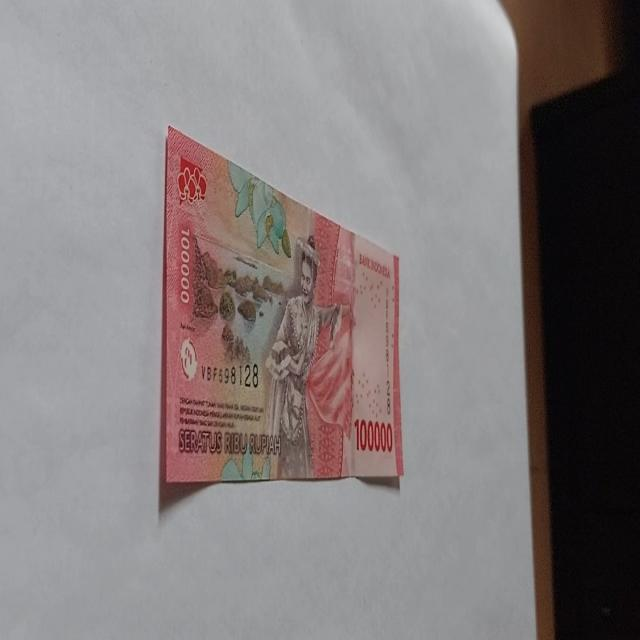seratus ribu rupiah: (158, 124, 404, 506), (262, 234, 352, 480)
